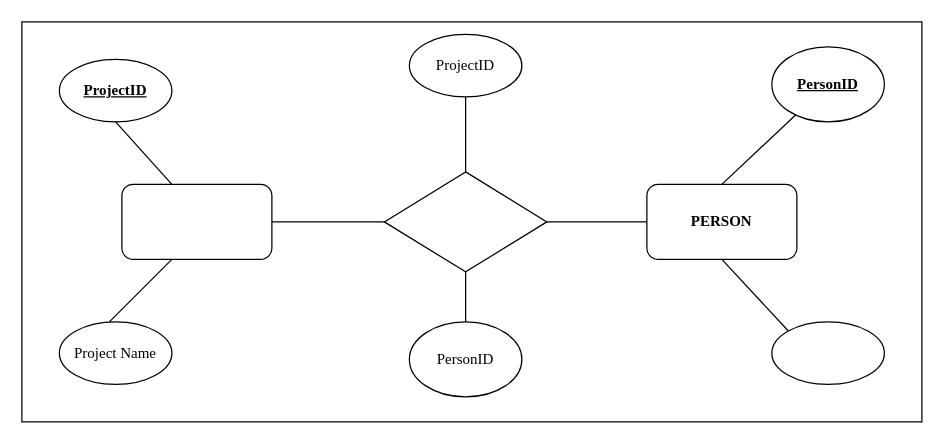
Image size: 944x444. Some labels were removed from this diagram. Here are the shapes that lost their labels. From the top down, the box of each, then its label:
(121, 183, 272, 259): PROJECT
(383, 171, 547, 272): Person-Project
(771, 321, 884, 384): Person Name
